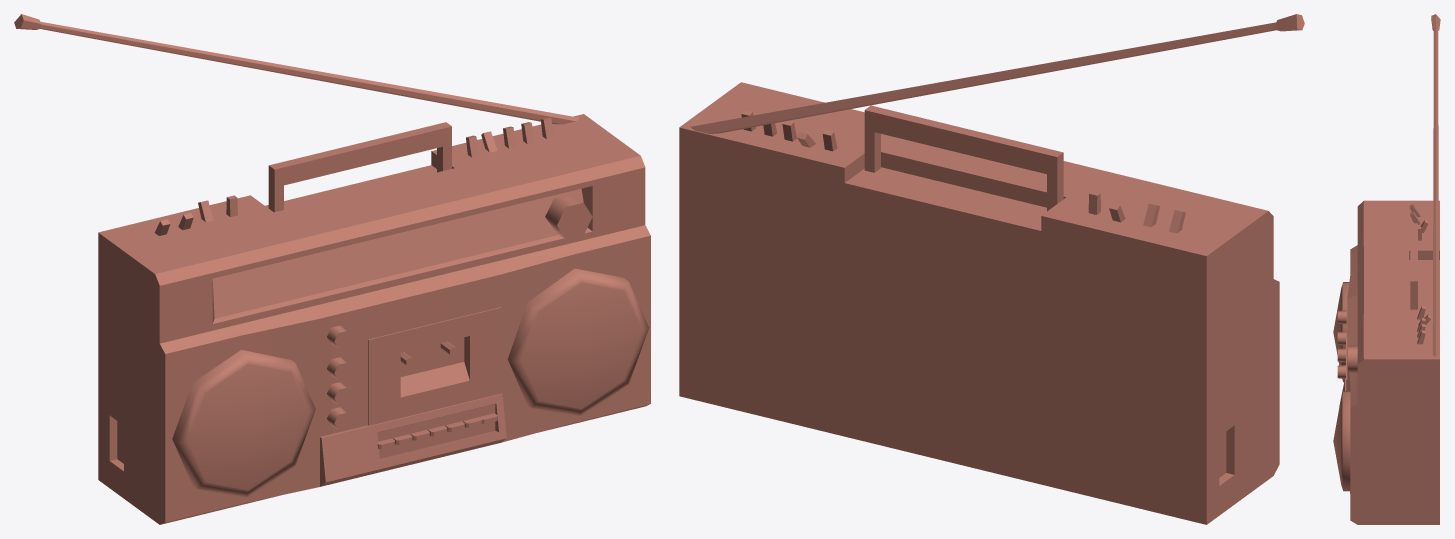
File: room_magnitola_mesh_01.fbx
The picture shows the model from 3 angles, left to right: view 1: azimuth 30°, elevation 25°; view 2: azimuth 150°, elevation 25°; view 3: azimuth 270°, elevation 25°; orthographic projection. The views are drawn at different scales.
Visible parts, largest first — view 1: pCube7, pCylinder13, pCube17, pCylinder15, pCube8, pCylinder14; view 2: pCube7, pCylinder15, pCube8; view 3: pCube7, pCylinder15, pCylinder13, pCube8, pCylinder14.
Part boxes in pixels (left/top/right/bottom): pCube7: left=98, top=114, right=650, bottom=524; pCylinder13: left=172, top=268, right=648, bottom=498; pCube17: left=368, top=307, right=501, bottom=425; pCylinder15: left=14, top=14, right=579, bottom=124; pCube8: left=268, top=122, right=451, bottom=212; pCylinder14: left=545, top=194, right=592, bottom=239; pCube7: left=679, top=82, right=1279, bottom=524; pCylinder15: left=690, top=14, right=1304, bottom=133; pCube8: left=864, top=105, right=1063, bottom=211; pCube7: left=1339, top=200, right=1439, bottom=524; pCylinder15: left=1431, top=14, right=1440, bottom=356; pCylinder13: left=1333, top=282, right=1350, bottom=491; pCube8: left=1410, top=223, right=1417, bottom=309; pCylinder14: left=1348, top=345, right=1357, bottom=372.
Bounding box in the file's own units: 55.85 × 45.6 × 13.6.
